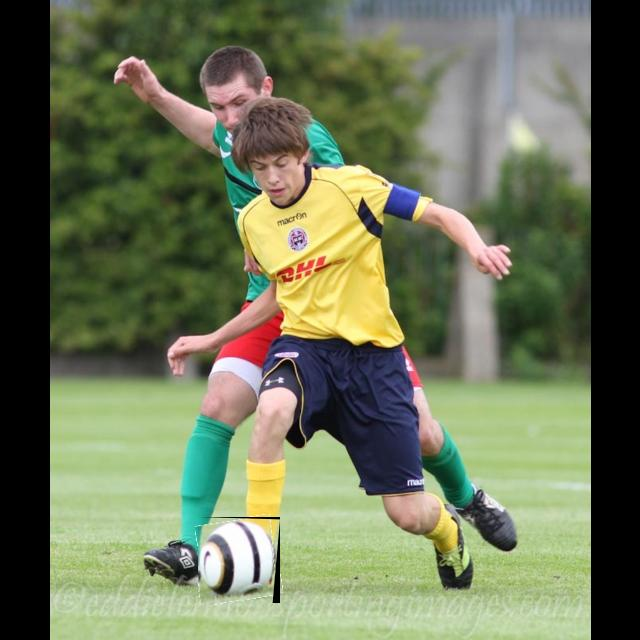Football: (198, 517, 280, 603)
